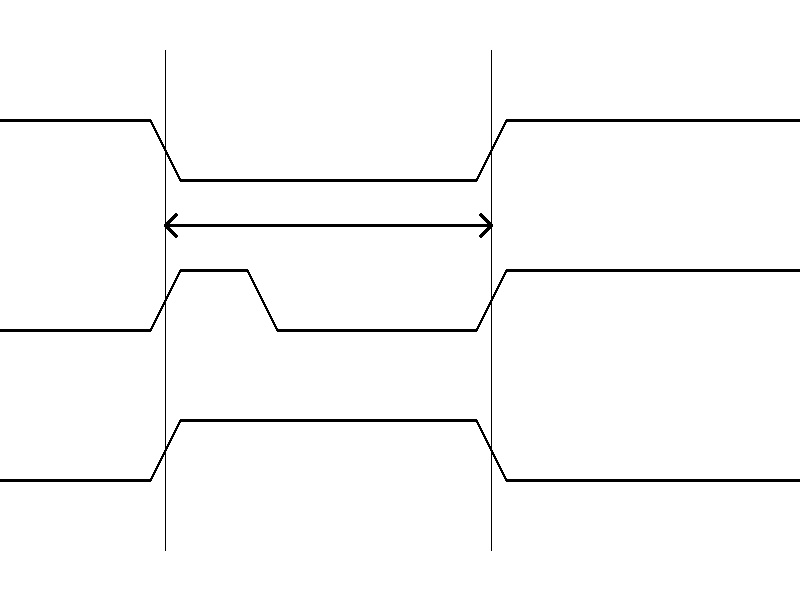double_arrow: (165, 210, 491, 240)
